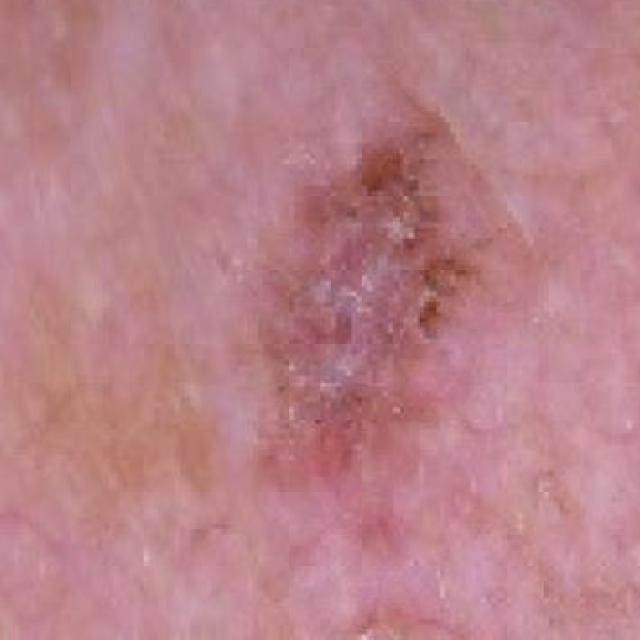AKIEC: (238, 0, 562, 564)
